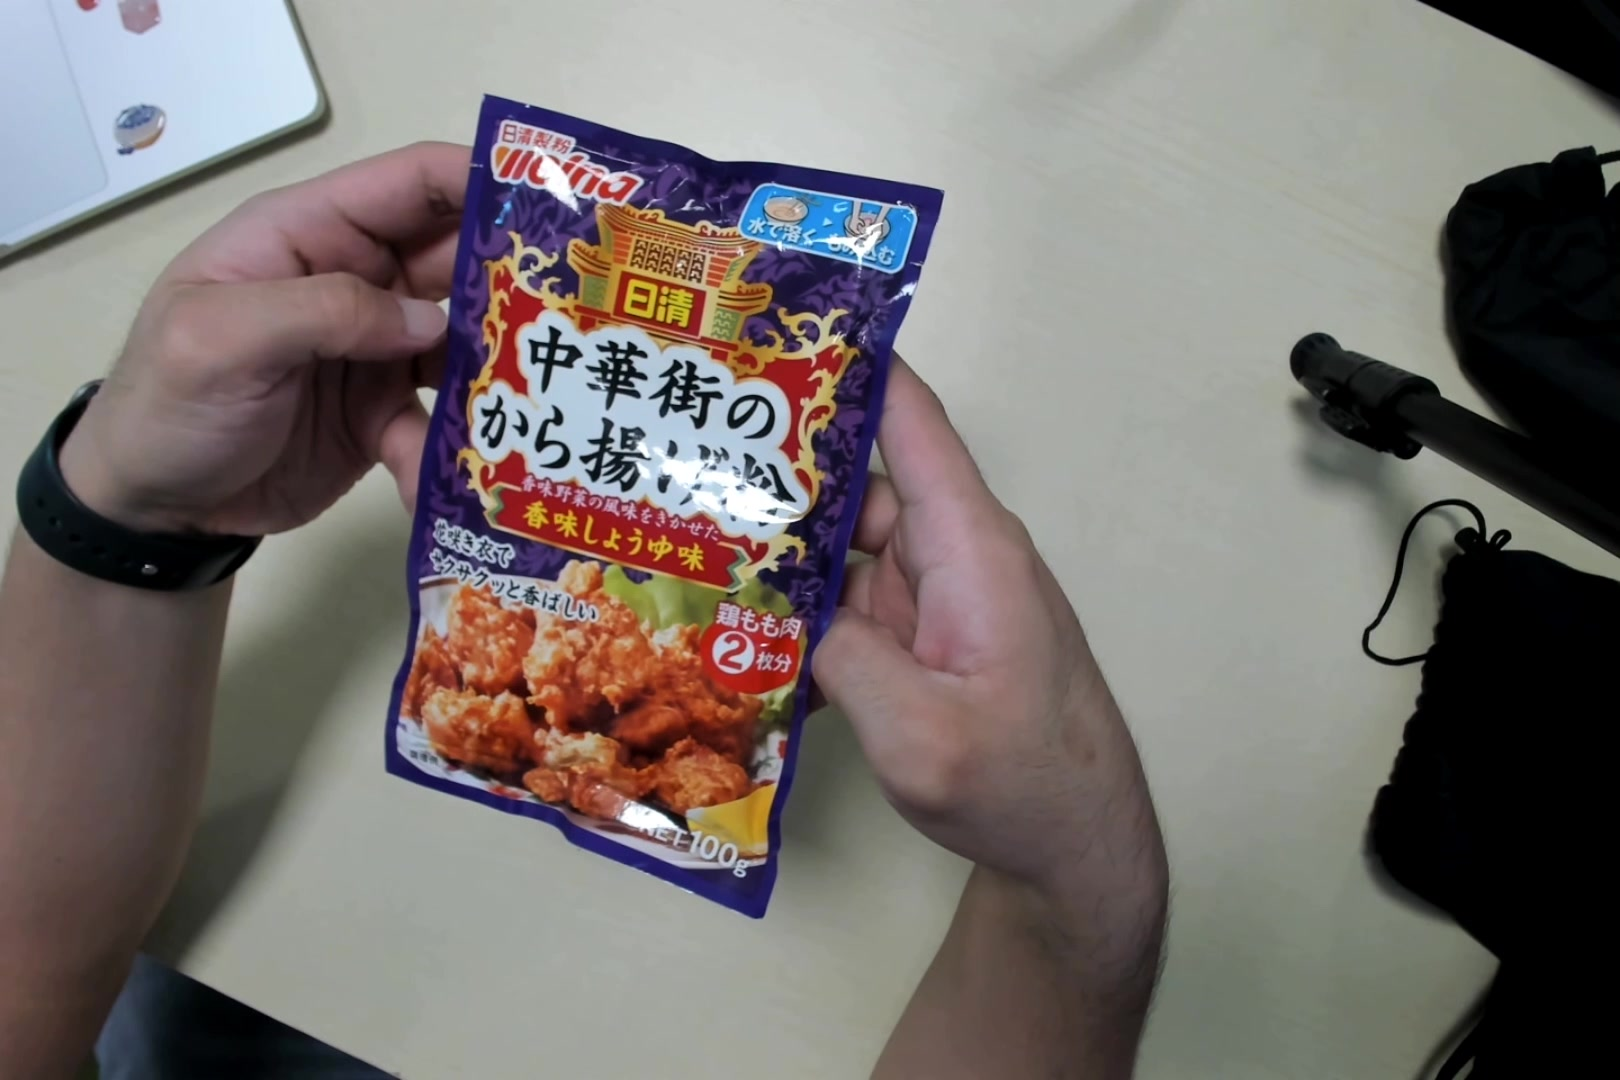OtherBakingNeeds_100-199g_NonHalal_NonHealthy: (388, 89, 947, 911)
